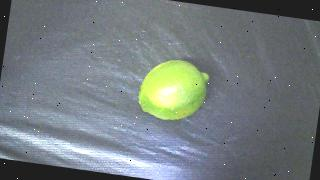LOCAL: (135, 56, 210, 125)
